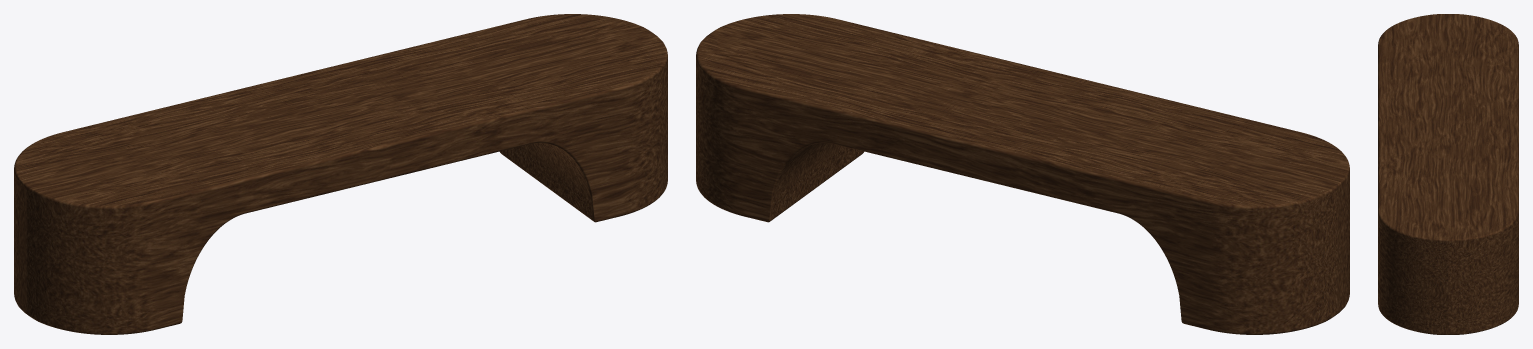
File: bench-mobile.glb
3 views of the same model, side by side, from view 1: azimuth 30°, elevation 25°; view 2: azimuth 150°, elevation 25°; view 3: azimuth 270°, elevation 25° (orthographic). The views are drawn at different scales.
Parts seen in each view (by area): view 1: Walnut cylinder supports and connecting seat; view 2: Walnut cylinder supports and connecting seat; view 3: Walnut cylinder supports and connecting seat.
Boxes of the visible parts, x1,y1,x2,y2 form: Walnut cylinder supports and connecting seat: [14, 14, 667, 334]; Walnut cylinder supports and connecting seat: [696, 14, 1349, 334]; Walnut cylinder supports and connecting seat: [1378, 14, 1518, 334].
Bounding box in the file's own units: 2.44 × 0.48 × 0.64.
1 material, 1 textured.
